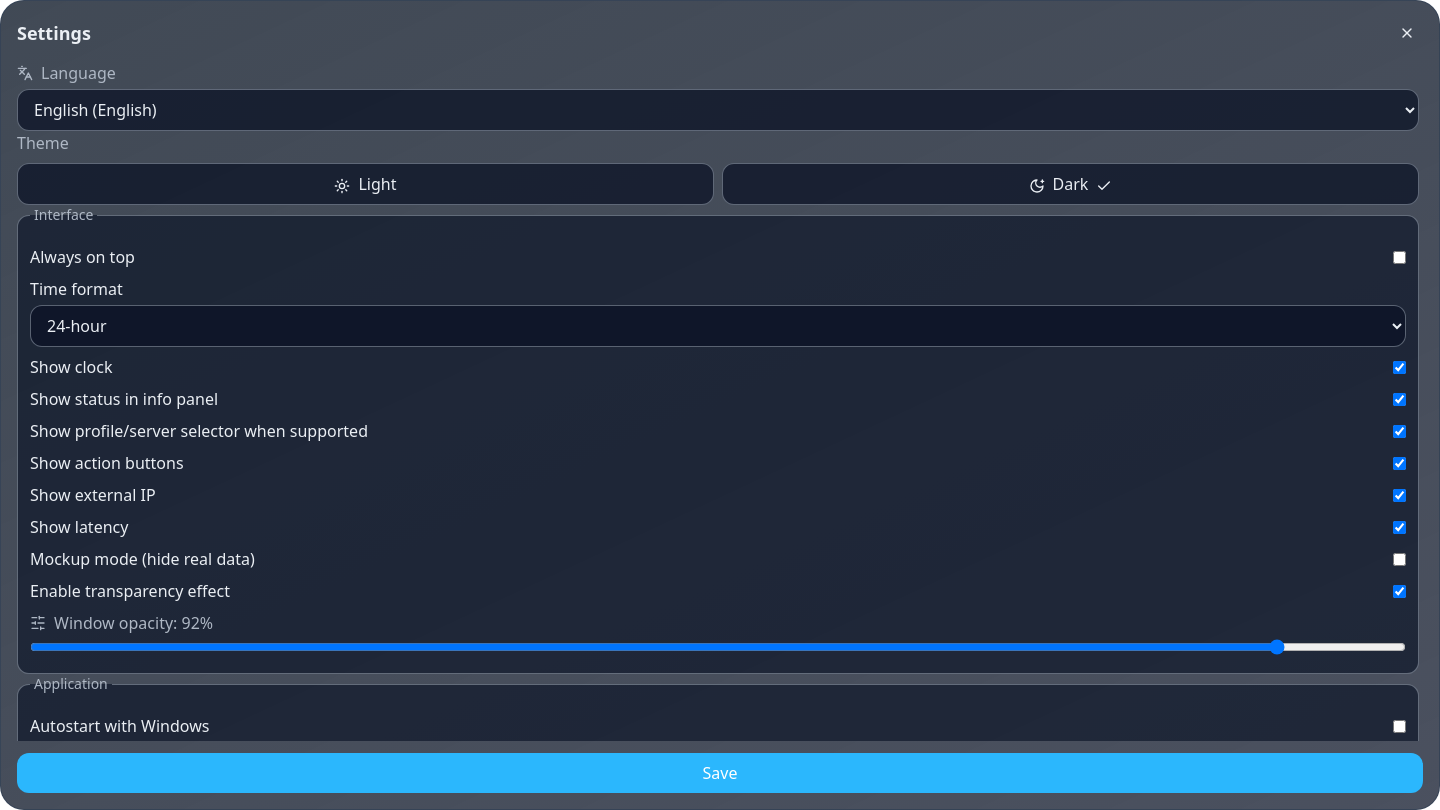
Scenario: SettingsWindow › keeps the window open and rolls back an unrecoverable live write
This screenshot has width=1440, height=810.
Expected: the heading "Settings" is shown, x1=17 y1=19 x2=91 y2=47
Step 1. Click the checkbox labelled "Always on top" → (1400,257), box x1=1393 y1=250 x2=1406 y2=264
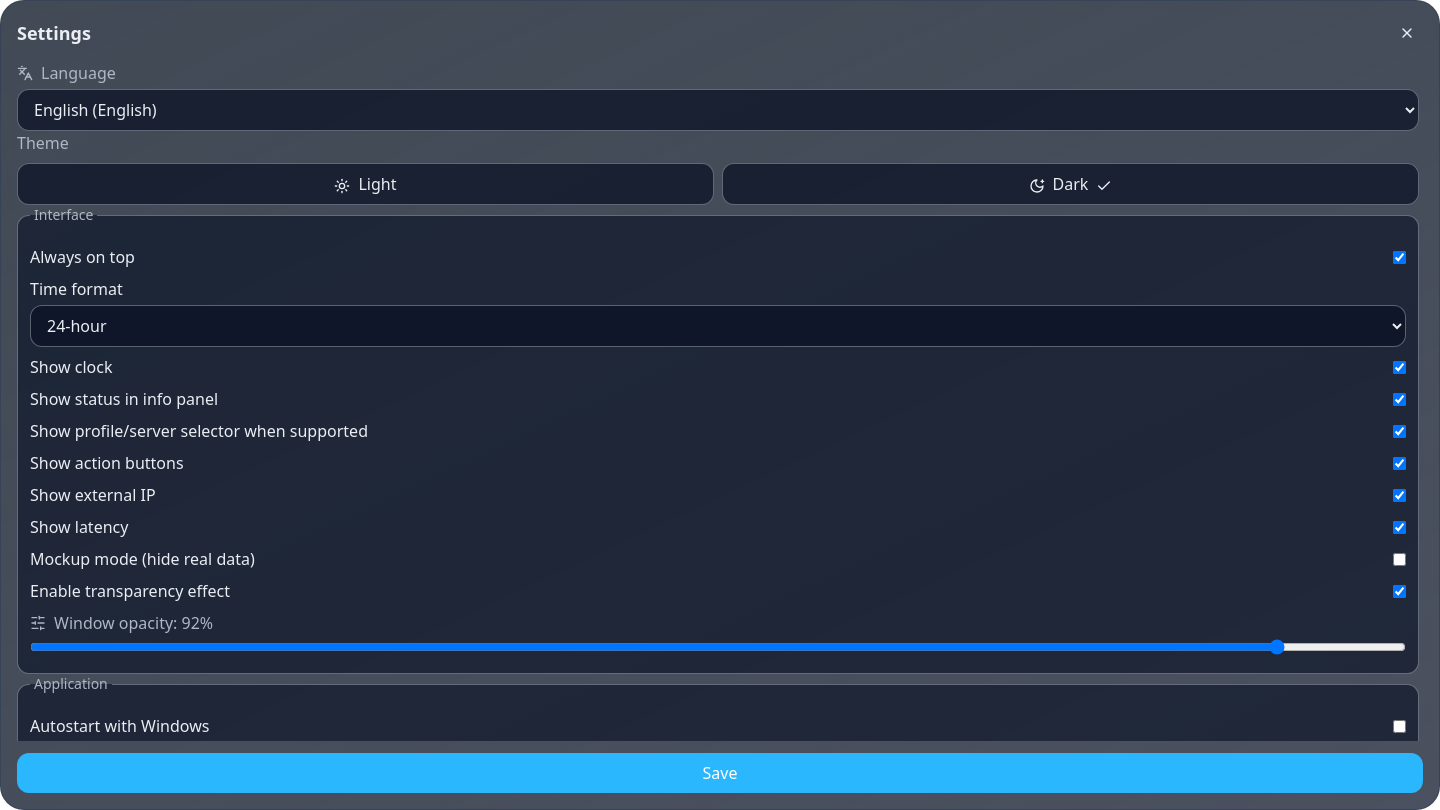
Expected: the checkbox labelled "Always on top" is checked, x1=1393 y1=250 x2=1406 y2=264
Step 2. Click the button named "Close" → (1407,33), box x1=1391 y1=17 x2=1423 y2=49
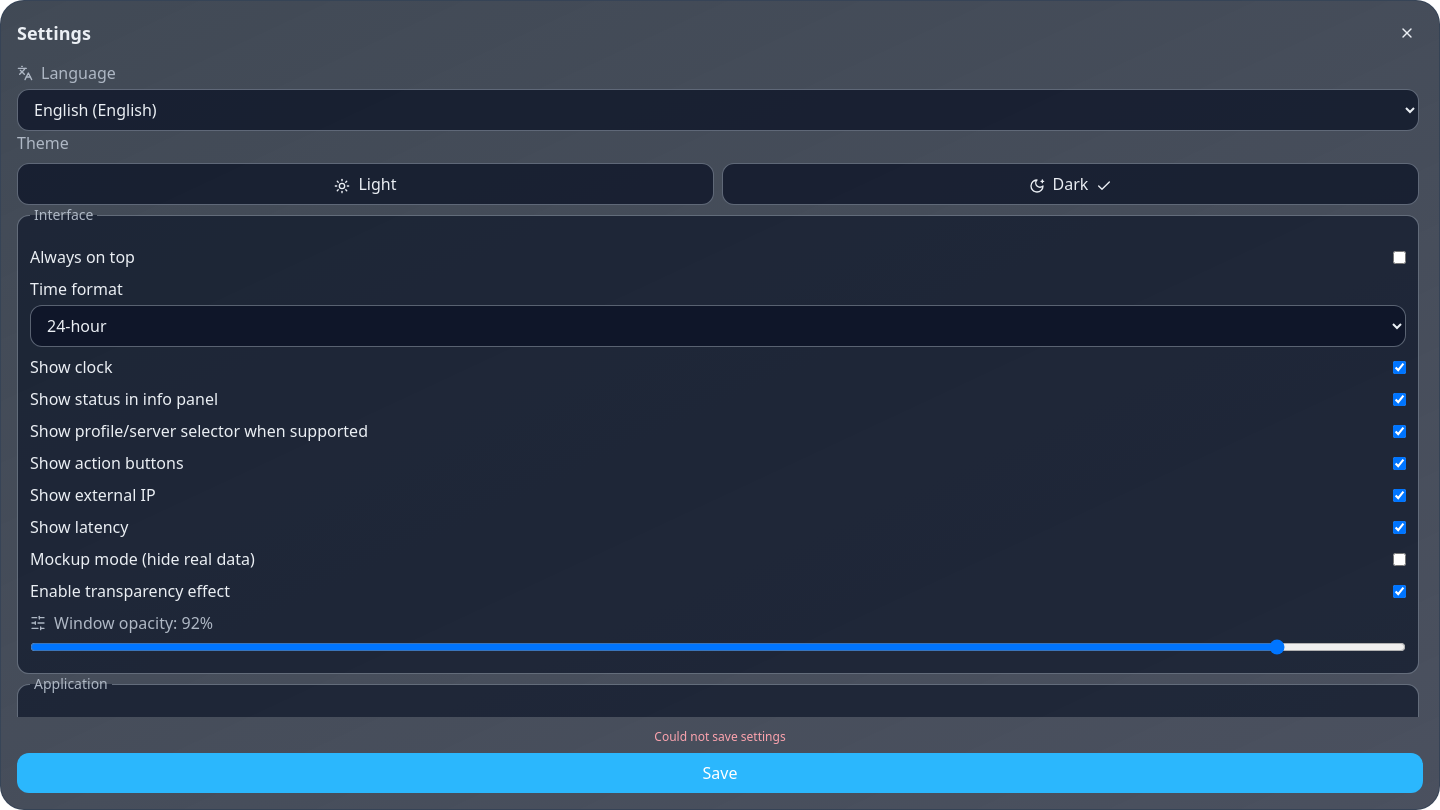
Expected: the checkbox labelled "Always on top" is not checked, x1=1393 y1=250 x2=1406 y2=264
Expected: the message reads "Could not save settings", x1=654 y1=728 x2=786 y2=745
